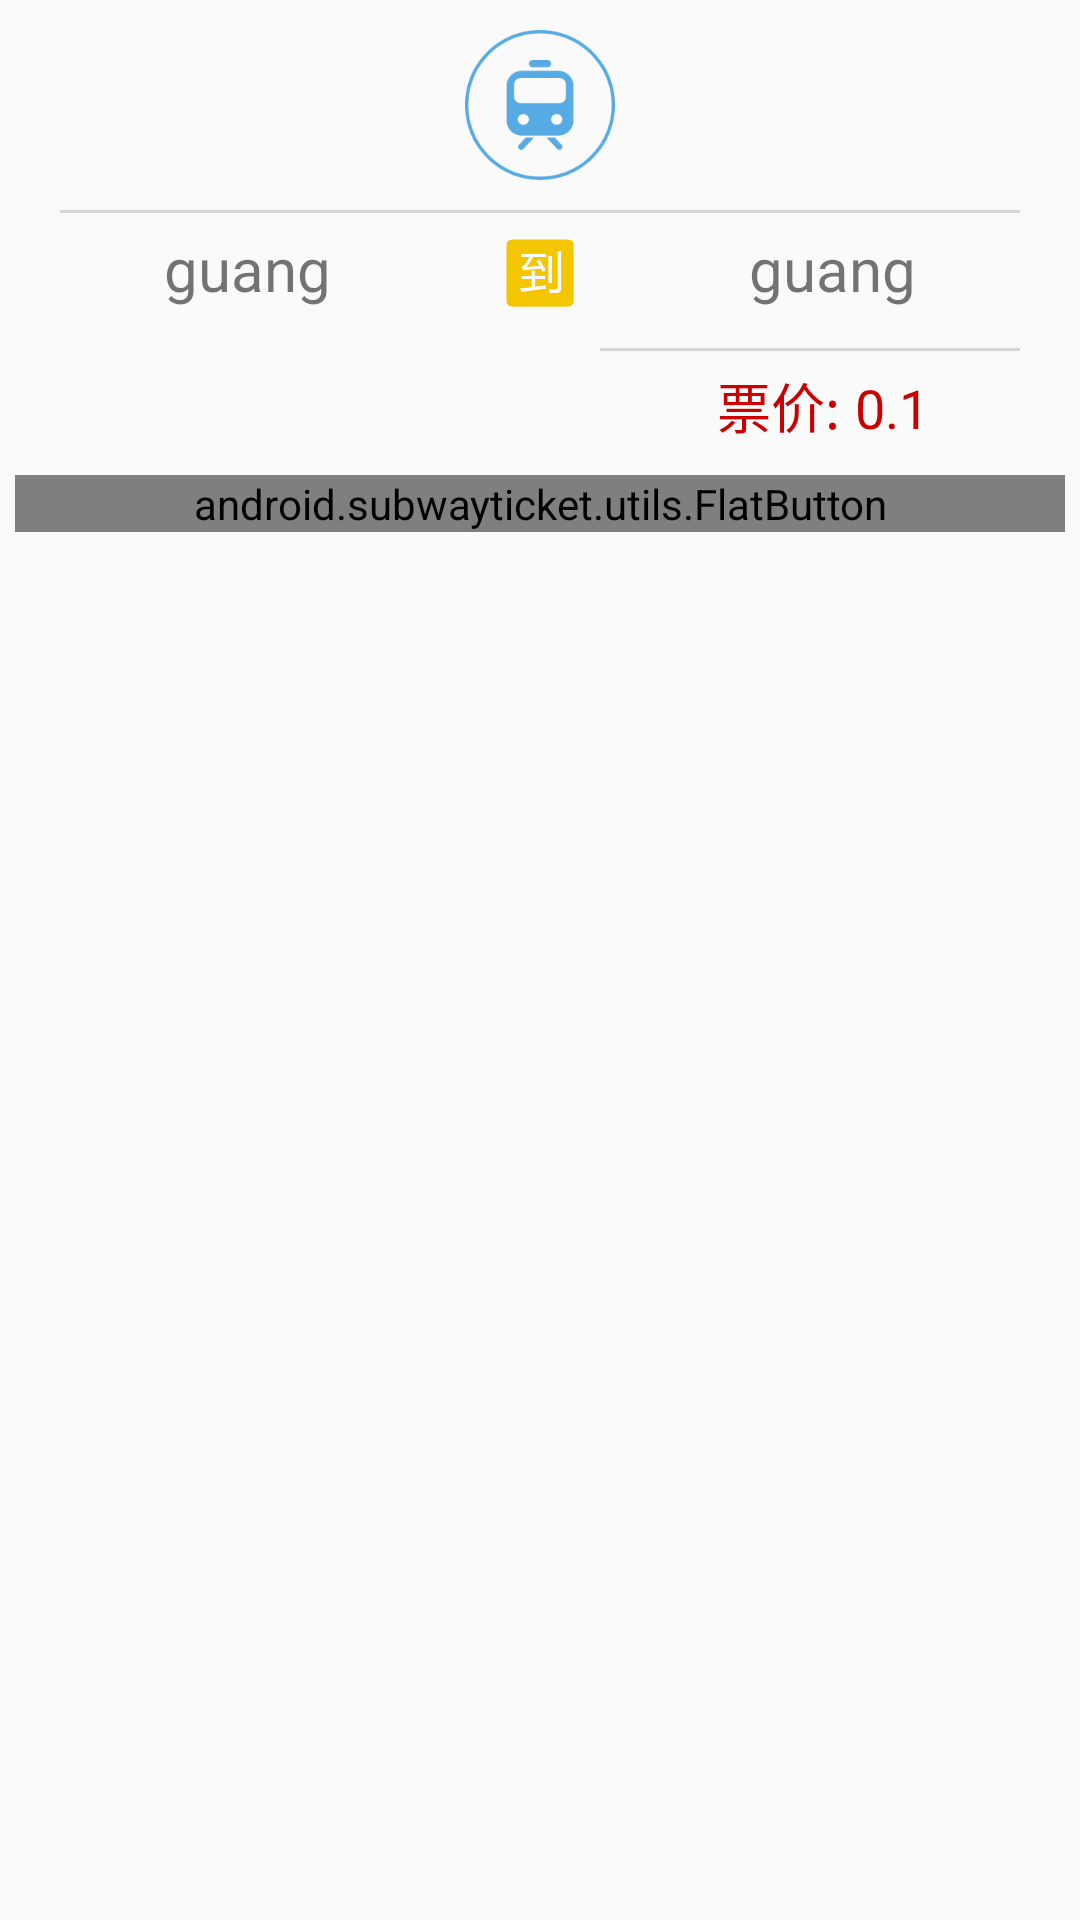

Icon click points for this 1080×1920 phone screenshot, format (x=x, y=y):
subway liam: (x=540, y=105)
